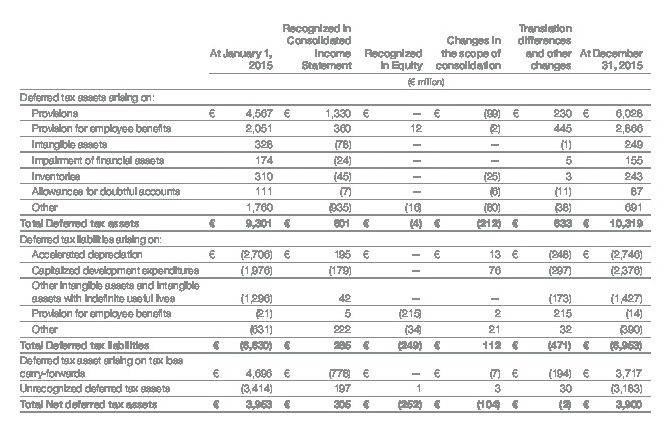table: (0, 0, 664, 432)
